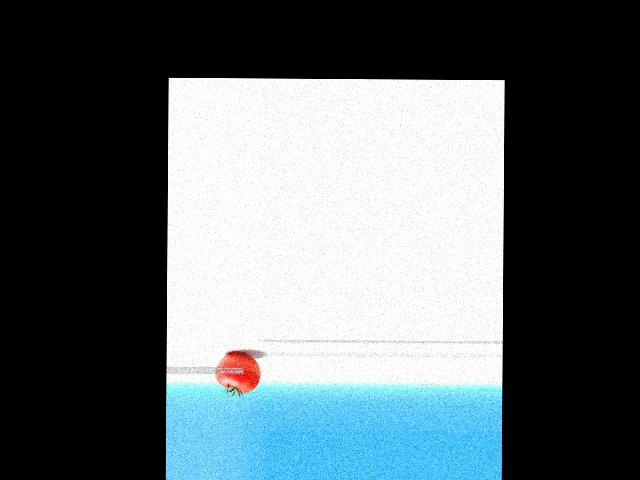tomato: (214, 353, 260, 393)
